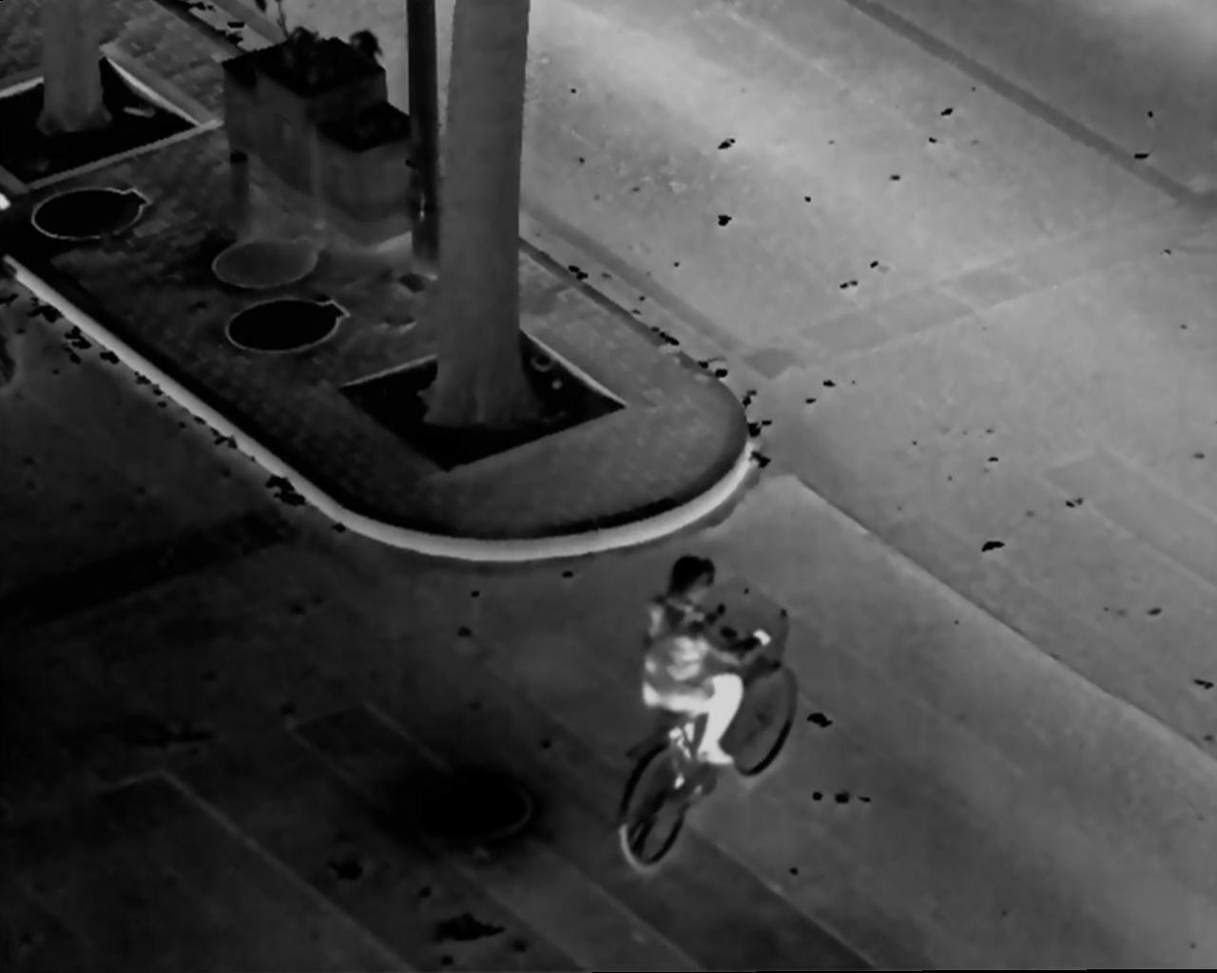person: (643, 554, 774, 780)
